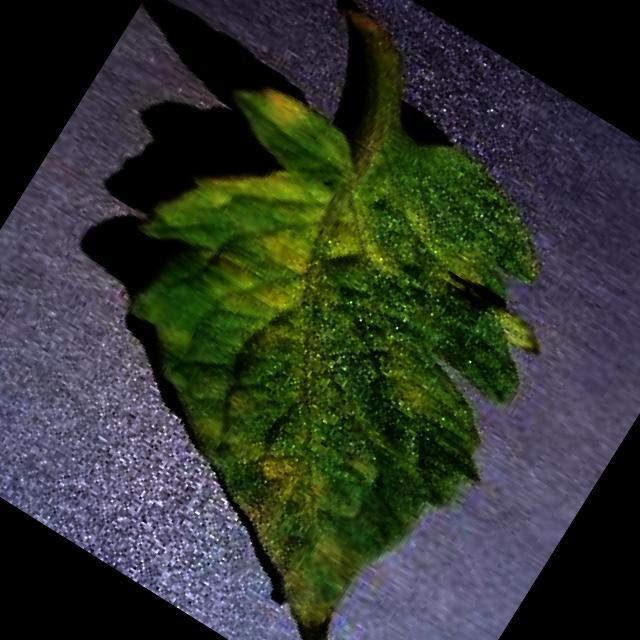Tomato mold leaf: (0, 29, 623, 640)
